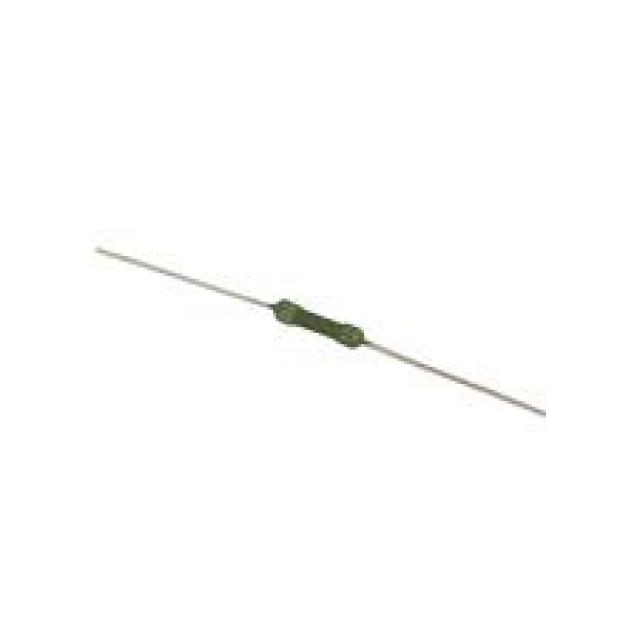Resistor: (270, 297, 368, 349)
